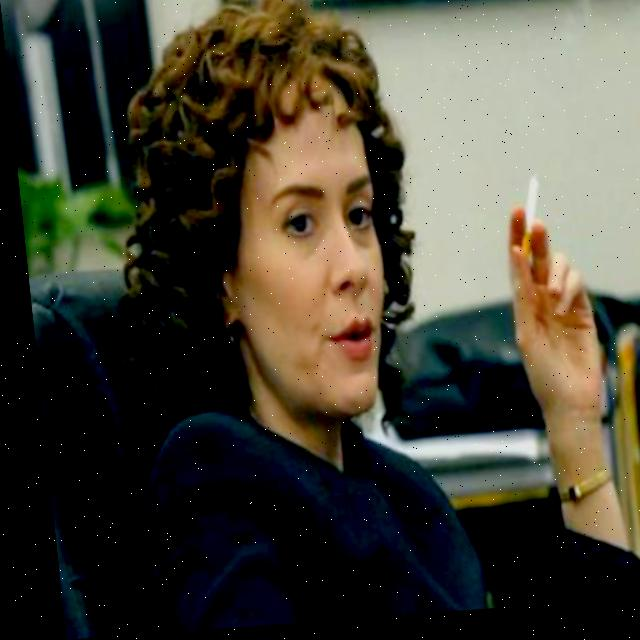cigarette: (506, 178, 546, 273)
